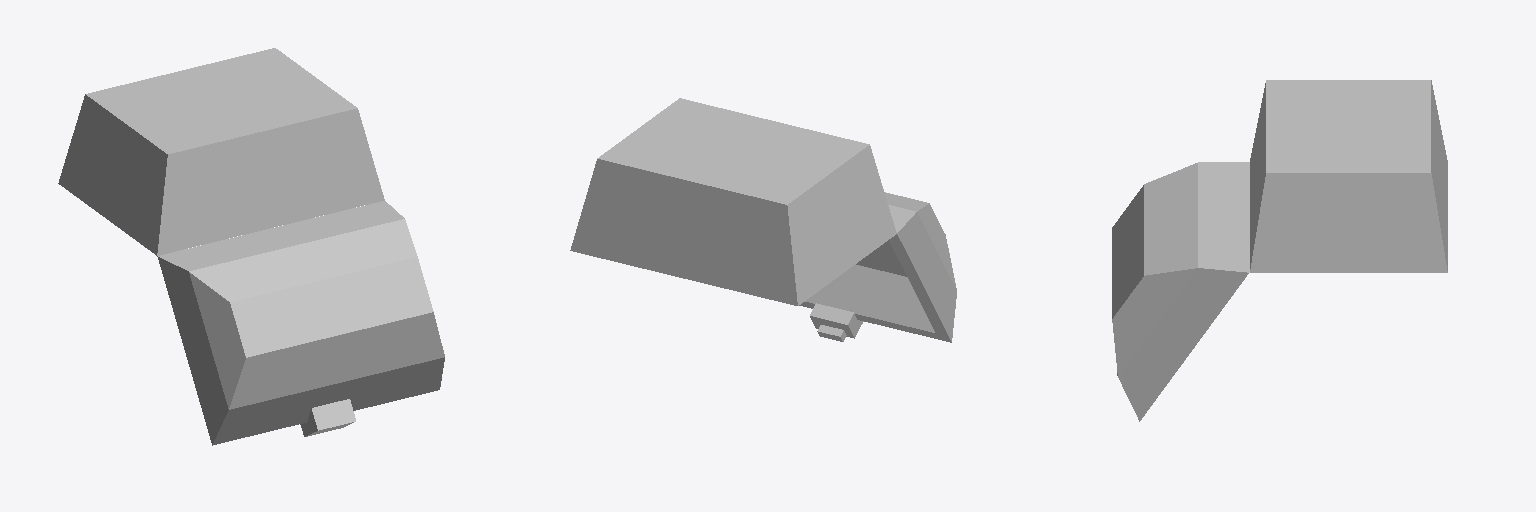
File: cofre-riggin_000033.obj
The picture shows the model from 3 angles: view 1: azimuth 30°, elevation 25°; view 2: azimuth 150°, elevation 25°; view 3: azimuth 270°, elevation 25°; orthographic projection.
Parts seen in each view (by area): view 1: Cube; view 2: Cube; view 3: Cube.
Boxes of the visible parts, x1,y1,x2,y2 form: Cube: [58, 48, 444, 445]; Cube: [570, 98, 956, 342]; Cube: [1112, 80, 1447, 421].
Size of the model in its own units: 33.92 by 36.9 by 43.29.